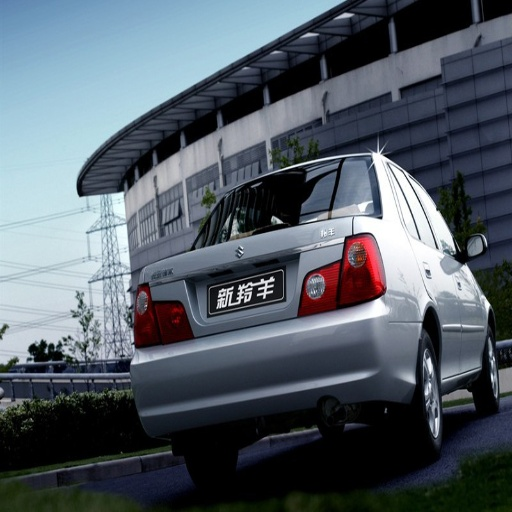back_bumper: (129, 298, 418, 435)
back_left_light: (131, 283, 159, 346)
back_right_door: (389, 170, 459, 377)
tailgate: (145, 226, 310, 337)
trunk: (271, 223, 346, 281)
